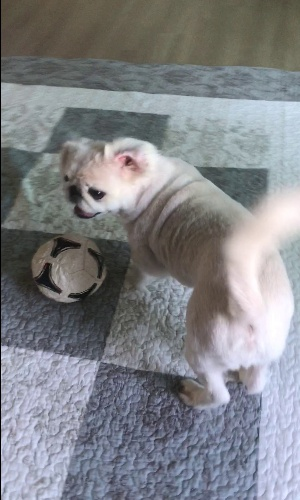ddubi: (58, 132, 300, 412)
